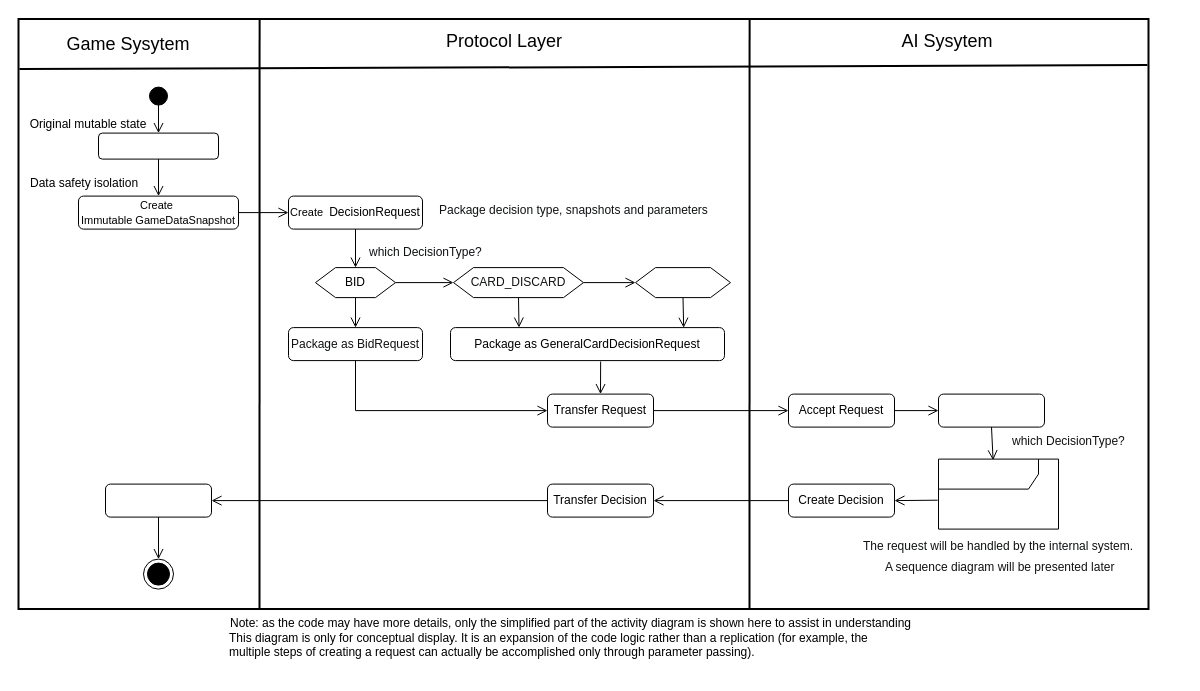
This 1200x691 diagram has some shape labels left out. Here are the shapes that lost their labels. From the top down, the box of each, then its label:
(98, 132, 218, 159): Raw Game State Data
(634, 267, 730, 298): CARD_PLAY
(938, 393, 1044, 427): Routing Request
(104, 483, 212, 517): Parse Decision
(938, 458, 1058, 529): Internal AI system
